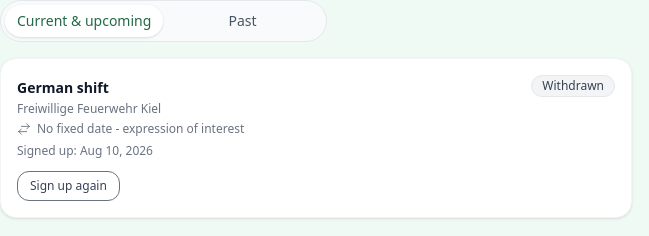
my-signups reactivate action (#2240) › hides the reactivate action once the sign-up has moved to past
Click the button with test id "engagements-scope-past" at (242, 21), box [163,5,322,37]
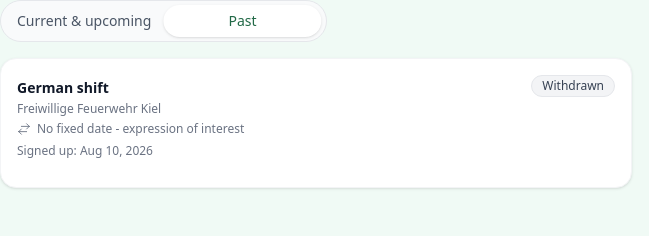
Expected: the link "Sign up again" is gone
